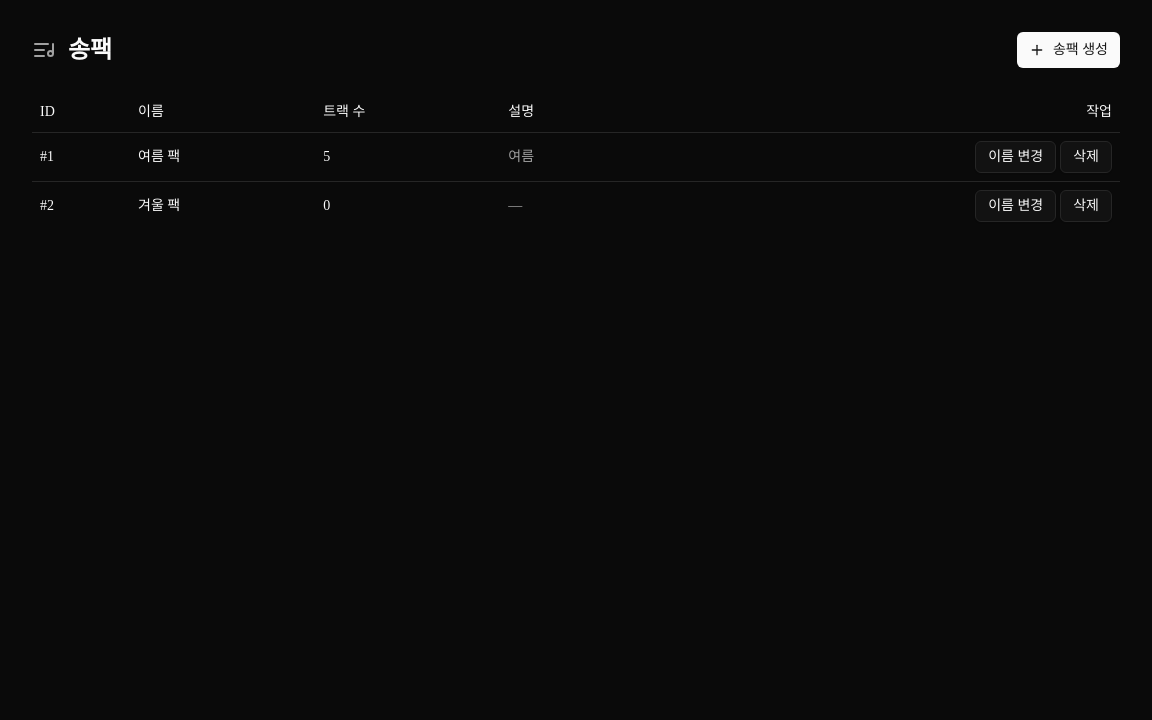
it: SongPacksPageContent › 송팩 생성 버튼 → 다이얼로그 열림 → POST 트리거
The image size is (1152, 720).
Later steps or results of the test are not shown.
expect the text "여름 팩" is shown: met, box [130,132,315,181]
Click the button "송팩 생성".
click(1068, 50)  # box [1017,32,1120,68]
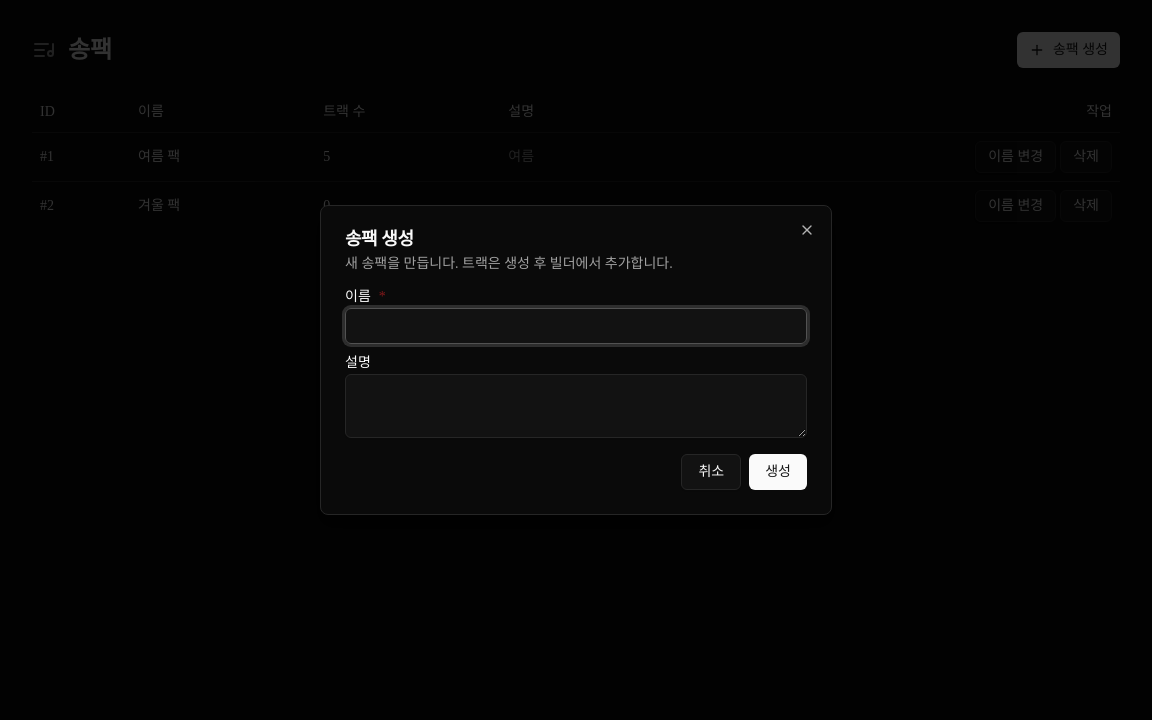
expect the field labelled "이름" is shown: met, box [345,308,807,344]
